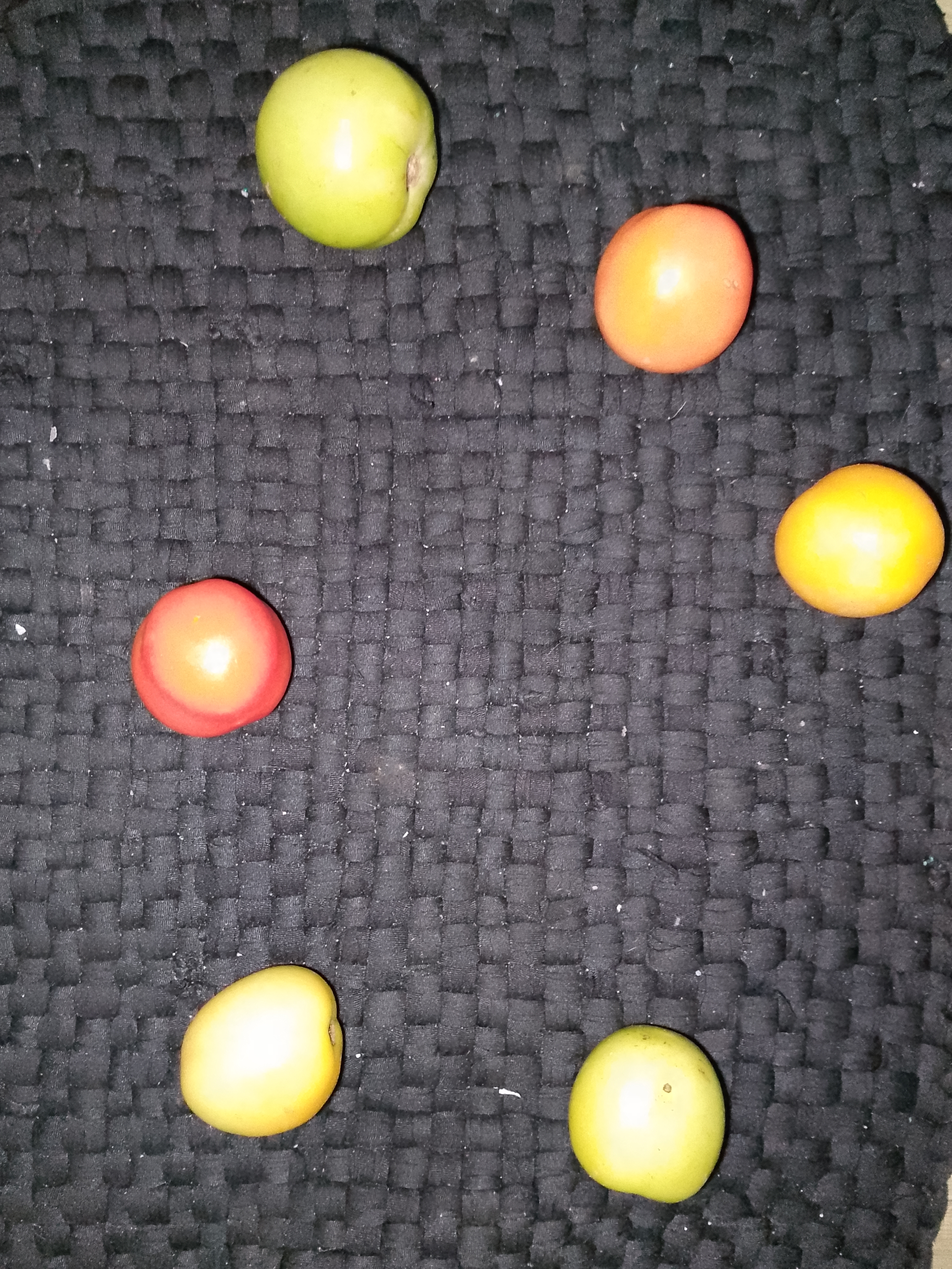Ripe: (70, 553, 356, 773), (555, 187, 797, 410), (758, 413, 952, 654)
Unripe: (514, 958, 799, 1230), (208, 21, 501, 275), (143, 921, 374, 1163)
